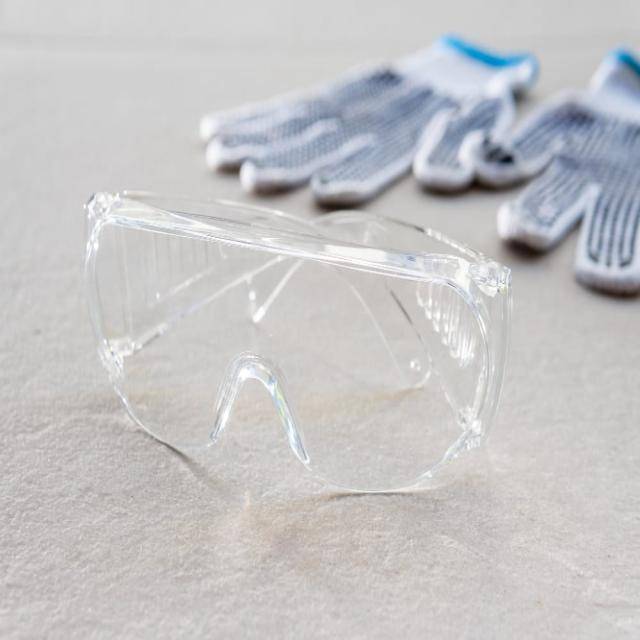goggles: (63, 170, 509, 523)
